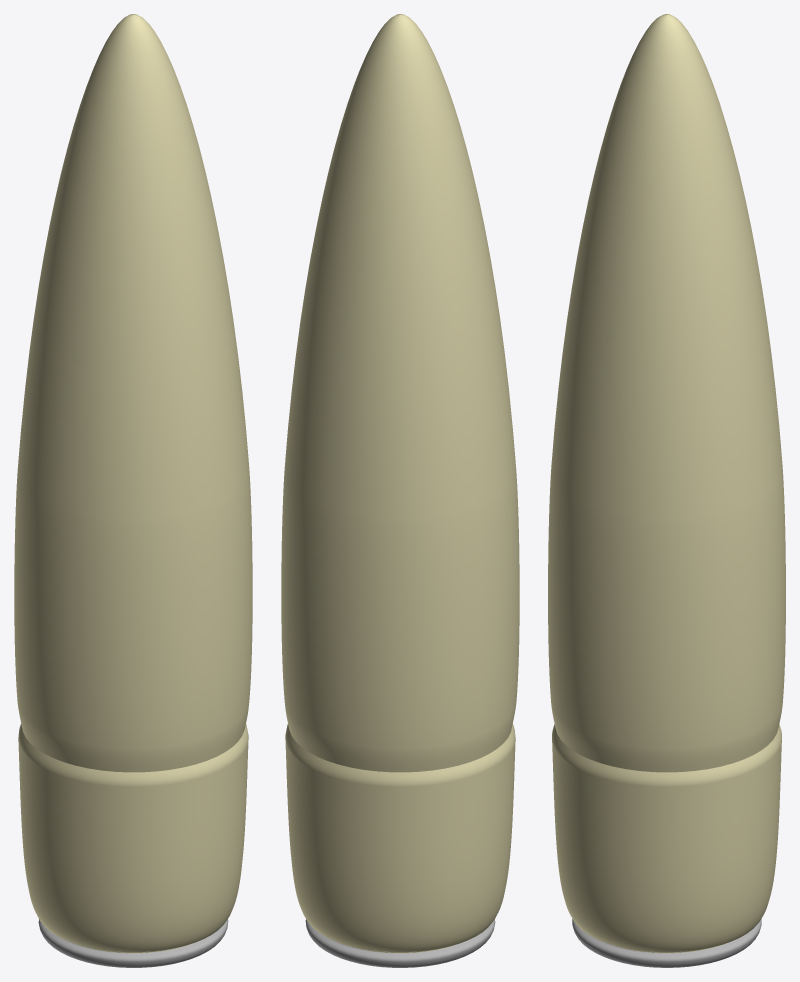
File: bullet2.fbx
The picture shows the model from 3 angles, left to right: view 1: azimuth 30°, elevation 25°; view 2: azimuth 150°, elevation 25°; view 3: azimuth 270°, elevation 25°; orthographic projection.
Parts seen in each view (by area): view 1: Linie01; view 2: Linie01; view 3: Linie01.
Boxes of the visible parts, <box> form: Linie01: <box>14,14,252,967</box>; Linie01: <box>281,14,519,967</box>; Linie01: <box>548,14,785,967</box>.
Bounding box in the file's own units: 1.27 × 5.4 × 1.27.
